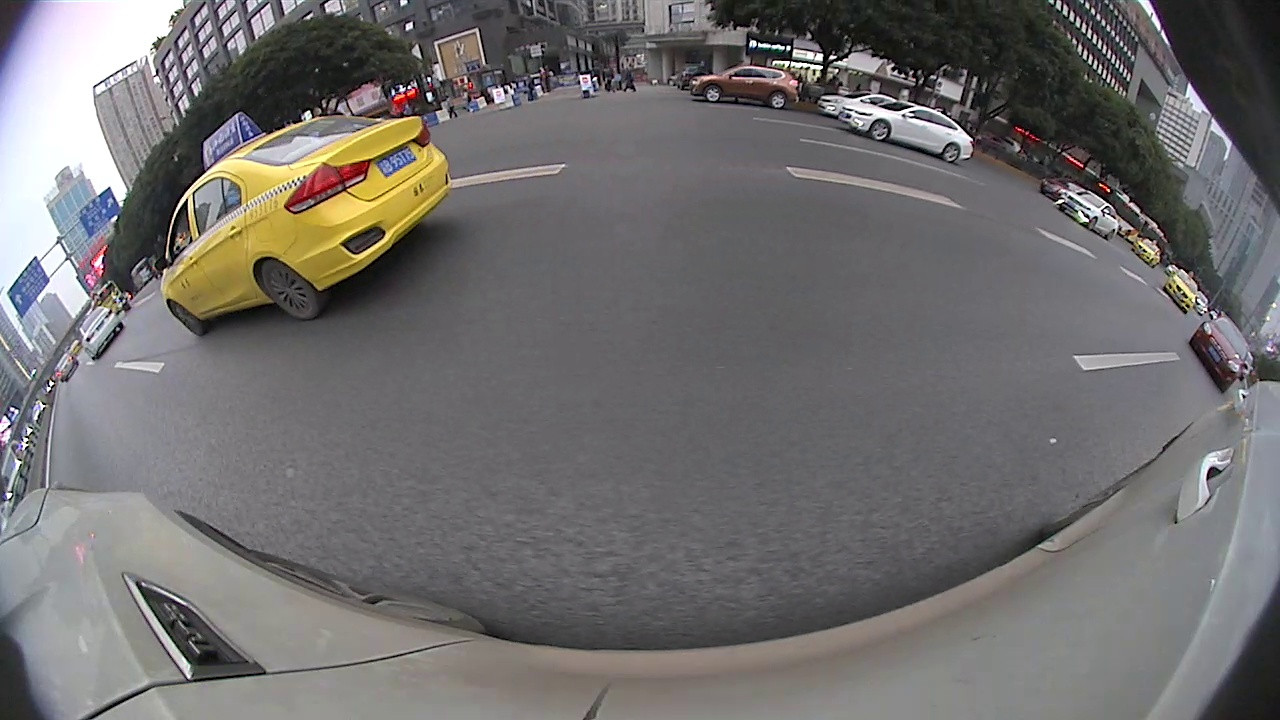car: (160, 110, 454, 337), (839, 99, 974, 161), (689, 66, 803, 110), (1189, 316, 1251, 394), (1054, 190, 1119, 242), (816, 89, 902, 123), (79, 304, 124, 362), (1163, 267, 1198, 316)
front: (168, 299, 207, 334), (872, 121, 889, 140), (705, 86, 720, 101)
rear: (263, 261, 323, 319), (942, 145, 961, 163), (769, 93, 789, 108)
